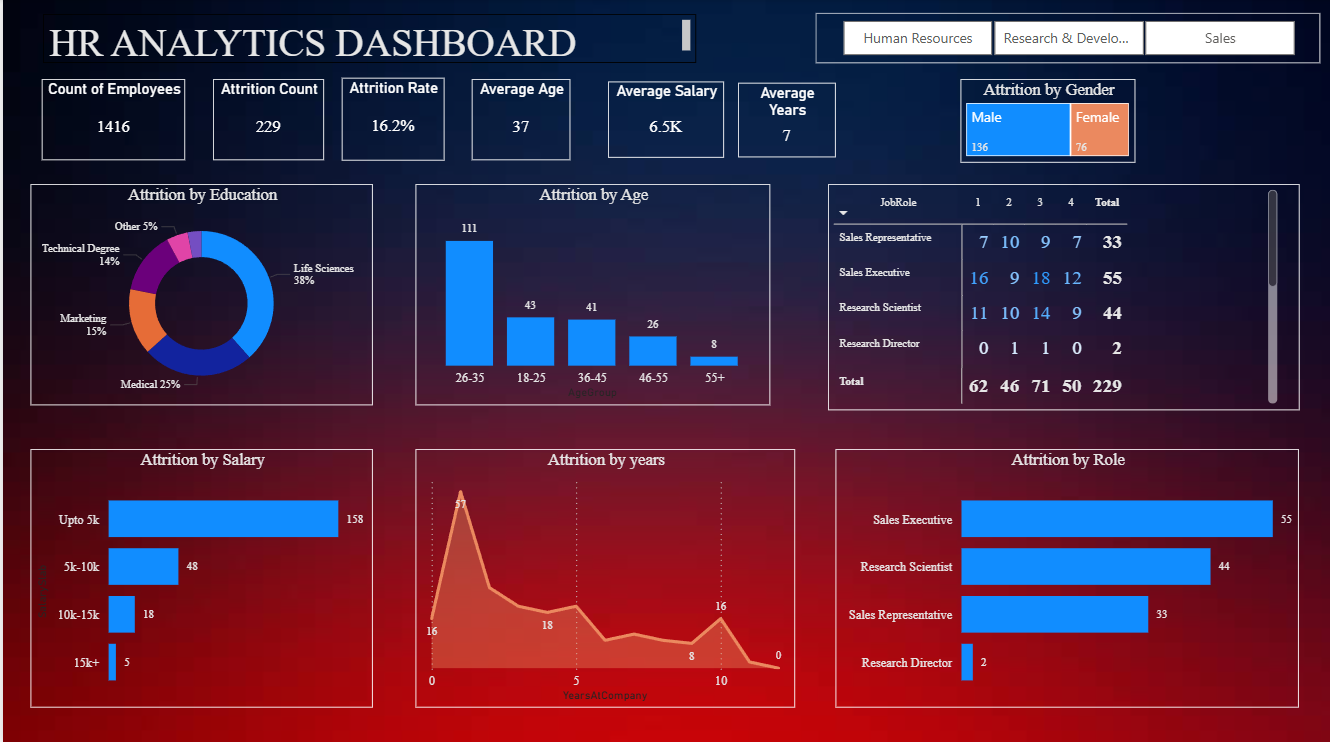

What the dashboard file says about the page in this screenshot:
{"tool":"powerbi","page":{"name":"Page 1","canvas":[1280,720],"ordinal":0},"visuals":[{"type":"card","title":"Count of Employees","fields":{"Values":["CountNonNull(HR_Analytics.EmpID)"]},"box":[37.4,77.2,138.7,78.4],"z":0},{"type":"card","title":"Average Age","fields":{"Values":["Avg(HR_Analytics.Age)"]},"box":[452.4,77.2,95.3,78.4],"z":1000},{"type":"card","title":"Attrition Rate","fields":{"Values":["HR_Analytics.AttritionRate"]},"box":[326.9,76,98.9,79.6],"z":2000},{"type":"card","title":"Attrition Count","fields":{"Values":["Sum(HR_Analytics.AttritionCount )"]},"box":[202.7,77.2,107.4,78.4],"z":3000},{"type":"card","title":"Average Salary","fields":{"Values":["Avg(HR_Analytics.MonthlyIncome)"]},"box":[583.9,79.6,112.2,73.6],"z":4000},{"type":"card","title":"Average Years","fields":{"Values":["Avg(HR_Analytics.YearsAtCompany)"]},"box":[709.4,80.8,94.1,72.4],"z":5000},{"type":"treemap","title":"Attrition by  Gender","fields":{"Group":["HR_Analytics.Gender"],"Values":["Sum(HR_Analytics.AttritionCount )"]},"box":[924.1,77.2,168.9,80.8],"z":6000},{"type":"donutChart","title":"Attrition by Education","fields":{"Category":["HR_Analytics.EducationField"],"Y":["Sum(HR_Analytics.AttritionCount )"]},"box":[26.5,178.6,330.6,213.5],"z":6000},{"type":"slicer","fields":{"Values":["HR_Analytics.Department"]},"box":[783.8,13.8,487.5,48.8],"z":7000},{"type":"clusteredColumnChart","title":"Attrition by Age","fields":{"Category":["HR_Analytics.AgeGroup"],"Y":["Sum(HR_Analytics.AttritionCount )"]},"box":[398.1,178.6,342.6,213.5],"z":7000},{"type":"textbox","box":[38.5,14.1,630.8,47.4],"z":8000},{"type":"pivotTable","fields":{"Rows":["HR_Analytics.JobRole"],"Columns":["HR_Analytics.JobSatisfaction"],"Values":["Sum(HR_Analytics.AttritionCount )"]},"box":[796.2,178.2,455.1,218],"z":8000},{"type":"clusteredBarChart","title":"Attrition by Salary","fields":{"Category":["HR_Analytics.SalarySlab"],"Y":["Sum(HR_Analytics.AttritionCount )"]},"box":[26.5,434.3,330.6,249.7],"z":9000},{"type":"clusteredBarChart","title":"Attrition by Role","fields":{"Y":["Sum(HR_Analytics.AttritionCount )"],"Category":["HR_Analytics.JobRole"]},"box":[803.5,434.3,447.6,249.7],"z":10000},{"type":"areaChart","title":"Attrition by  years","fields":{"Category":["HR_Analytics.YearsAtCompany"],"Y":["Sum(HR_Analytics.AttritionCount )"]},"box":[398.1,434.3,366.8,249.7],"z":11000}]}

Visuals, with their boxes in screenshot pixels (x1, y1, x2, y2), scaled from the page's 1280x720 canvas onto the 1330x742 screenshot:
"Count of Employees" card: l=39, t=80, r=183, b=160
"Average Age" card: l=470, t=80, r=569, b=160
"Attrition Rate" card: l=340, t=78, r=442, b=160
"Attrition Count" card: l=211, t=80, r=322, b=160
"Average Salary" card: l=607, t=82, r=723, b=158
"Average Years" card: l=737, t=83, r=835, b=158
"Attrition by  Gender" treemap: l=960, t=80, r=1136, b=163
"Attrition by Education" donutChart: l=28, t=184, r=371, b=404
slicer - HR_Analytics.Department: l=814, t=14, r=1321, b=65
"Attrition by Age" clusteredColumnChart: l=414, t=184, r=770, b=404
textbox: l=40, t=15, r=695, b=63
pivotTable - HR_Analytics.JobRole x HR_Analytics.JobSatisfaction: l=827, t=184, r=1300, b=408
"Attrition by Salary" clusteredBarChart: l=28, t=448, r=371, b=705
"Attrition by Role" clusteredBarChart: l=835, t=448, r=1300, b=705
"Attrition by  years" areaChart: l=414, t=448, r=795, b=705
